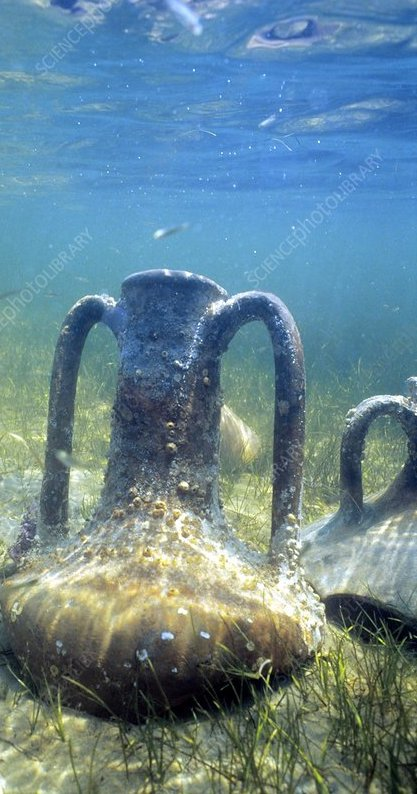amphora: (1, 262, 329, 723), (299, 372, 417, 629)
